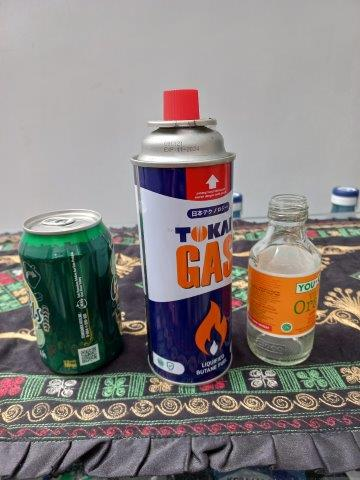botolkaca: (248, 192, 321, 368)
kaleng: (129, 89, 234, 383), (19, 208, 121, 380)
